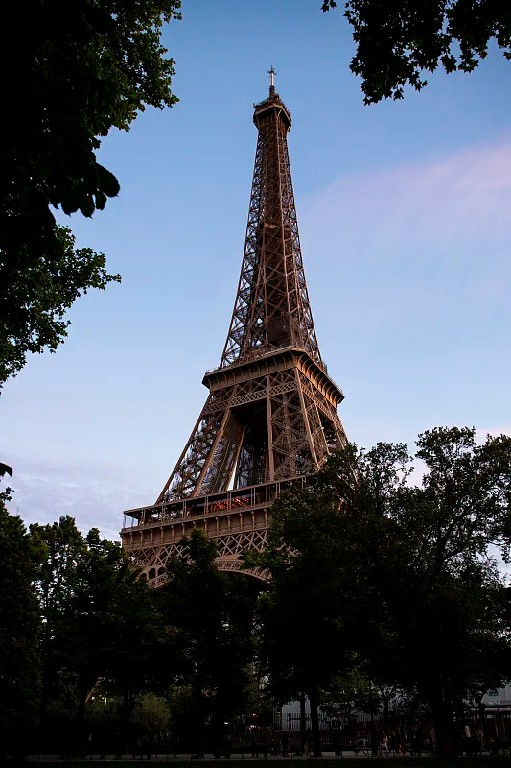Eiffel: (122, 65, 364, 598)
